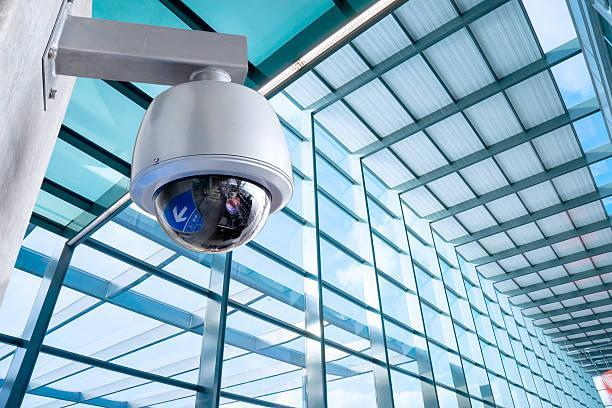camera: (102, 52, 320, 276)
